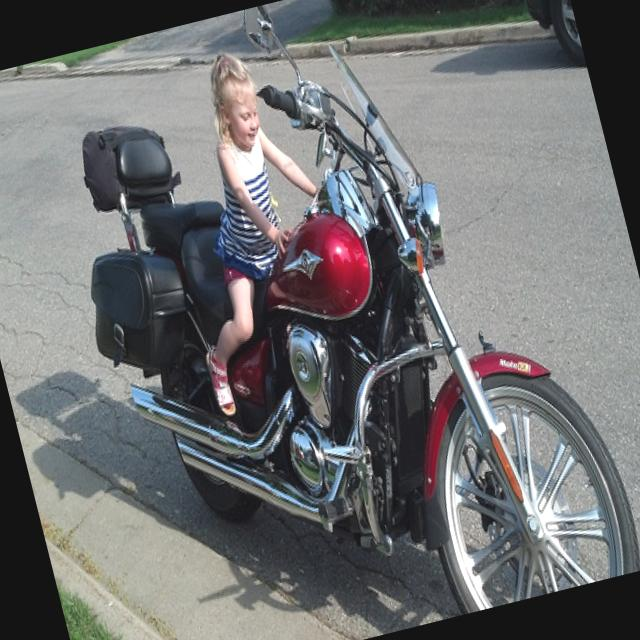Vehicle: (24, 0, 640, 640), (508, 0, 586, 78)
